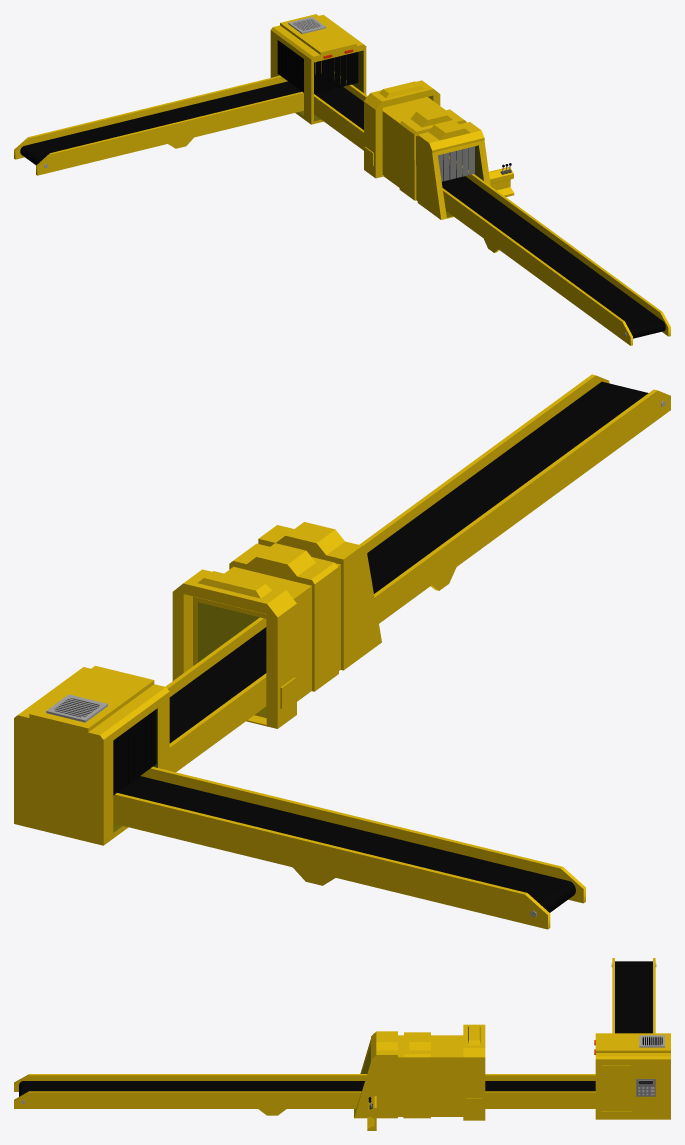
File: tapis_roulant_kit.fbx
The picture shows the model from 3 angles, top to bottom: view 1: azimuth 30°, elevation 25°; view 2: azimuth 150°, elevation 25°; view 3: azimuth 270°, elevation 25°; orthographic projection. The views are drawn at different scales.
Visible parts, largest first — view 1: tapis, tapis_roulant, machine_5, machine_1, machine_3, machine_2, machine_4; view 2: tapis, tapis_roulant, machine_5, machine_3, machine_1, machine_2, machine_4; view 3: tapis, machine_5, tapis_roulant, machine_4, machine_1, machine_2, machine_3.
Boxes of the visible parts, <box> form: tapis: <box>314,71,670,345</box>; tapis_roulant: <box>14,65,340,175</box>; machine_5: <box>270,14,366,124</box>; machine_1: <box>417,120,514,219</box>; machine_3: <box>364,80,440,178</box>; machine_2: <box>399,107,466,200</box>; machine_4: <box>382,97,462,200</box>; tapis: <box>153,374,670,772</box>; tapis_roulant: <box>113,767,585,929</box>; machine_5: <box>14,665,169,845</box>; machine_3: <box>172,569,296,728</box>; machine_1: <box>258,522,381,670</box>; machine_2: <box>229,543,338,691</box>; machine_4: <box>193,563,340,717</box>; tapis: <box>14,1074,595,1115</box>; machine_5: <box>594,1033,670,1119</box>; tapis_roulant: <box>611,958,656,1033</box>; machine_4: <box>398,1035,463,1116</box>; machine_1: <box>354,1031,397,1130</box>; machine_2: <box>403,1032,430,1118</box>; machine_3: <box>463,1024,485,1120</box>.
Bounding box in the file's own units: 16.86 × 3.69 × 30.
